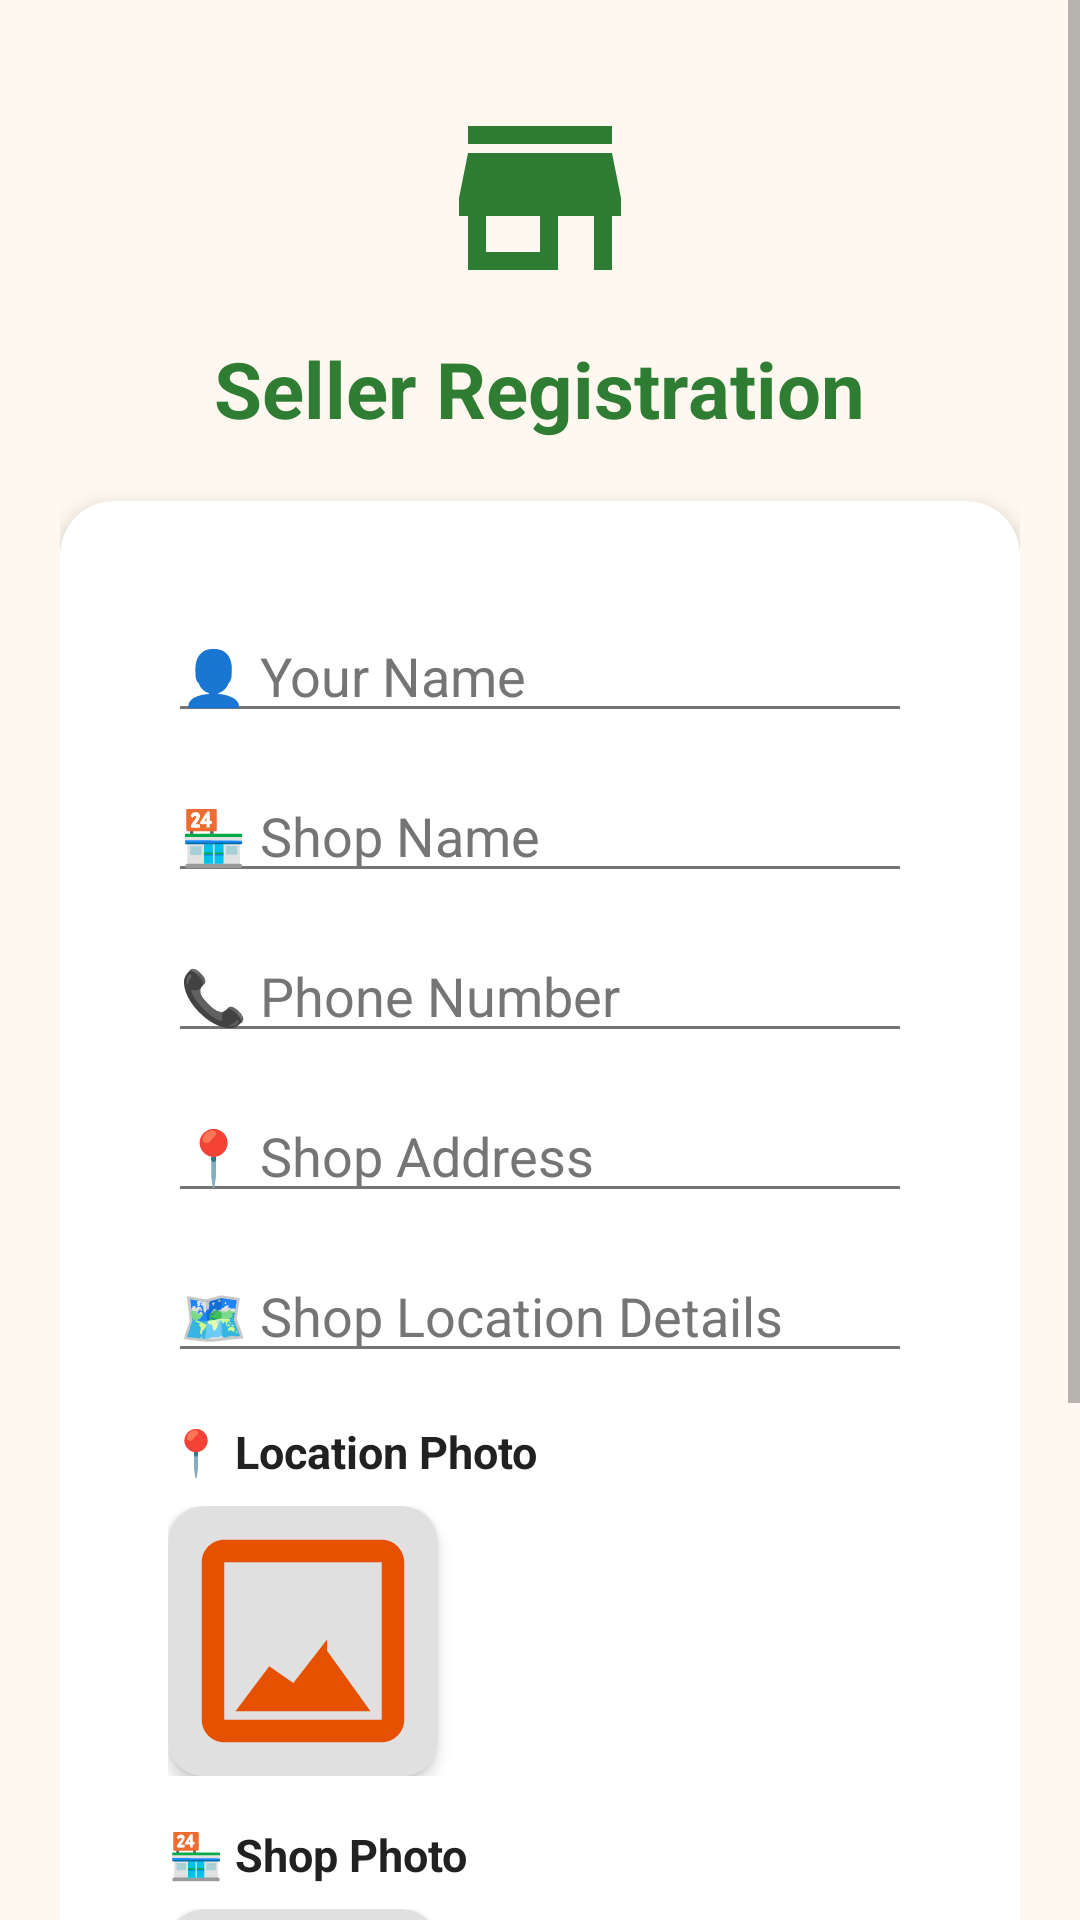

Named icons in this screenshot (1080px x 1920px) and their centers, (x,y):
Seller Header Icon: (540,198)
